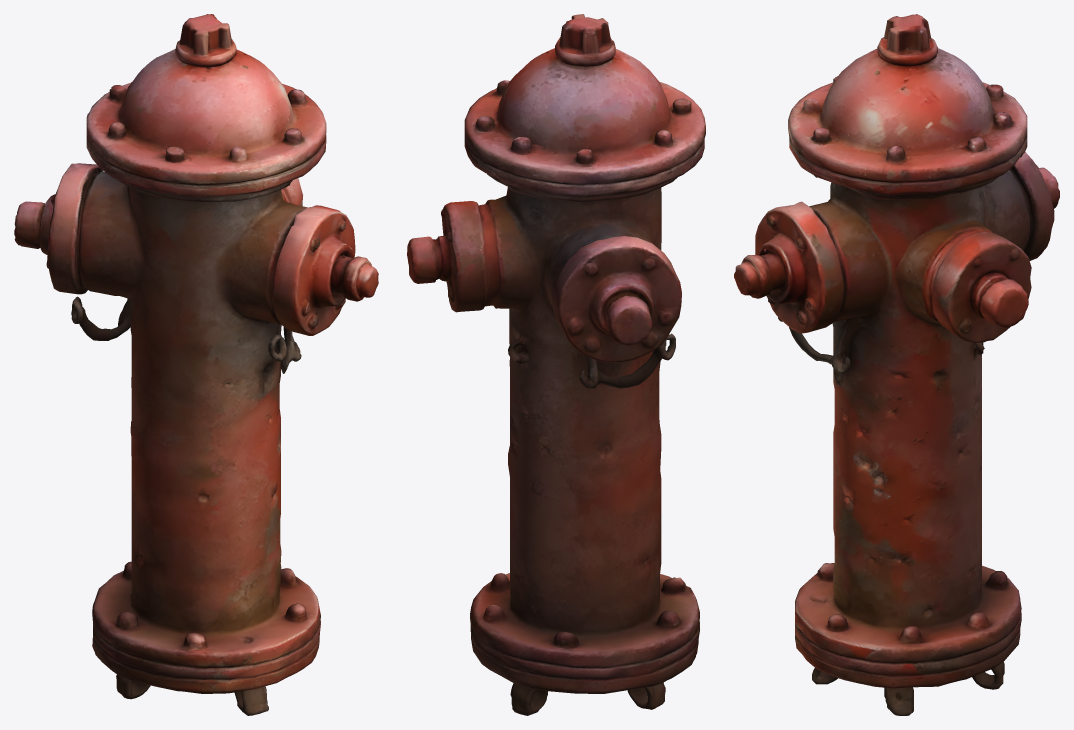
File: fire_hydrant_01_q3.fbx
The picture shows the model from 3 angles, left to right: view 1: azimuth 30°, elevation 25°; view 2: azimuth 150°, elevation 25°; view 3: azimuth 270°, elevation 25°; orthographic projection.
Parts seen in each view (by area): view 1: tripo_node_52f864d3; view 2: tripo_node_52f864d3; view 3: tripo_node_52f864d3.
Boxes of the visible parts, x1=… form: tripo_node_52f864d3: x1=14, y1=14, x2=378, y2=715; tripo_node_52f864d3: x1=407, y1=14, x2=705, y2=715; tripo_node_52f864d3: x1=734, y1=14, x2=1059, y2=715.
Size of the model in its own units: 0.4129 by 1 by 0.4501.
1 material, 1 textured.
